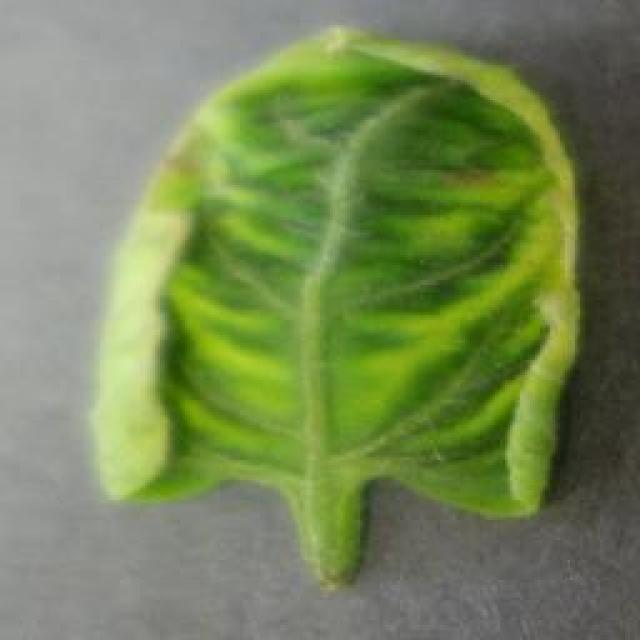Tomato yellow virus leaf: (90, 21, 584, 524)
